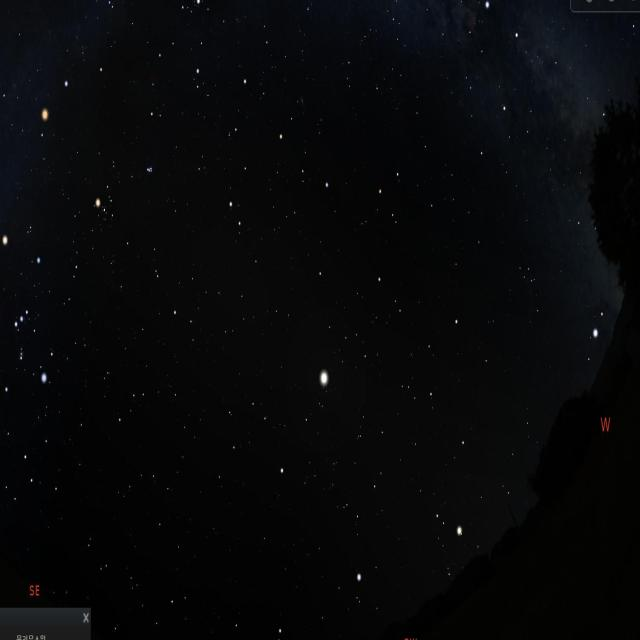cygnus: (481, 0, 609, 135)
orion: (0, 224, 50, 398)
pleiades: (139, 160, 155, 189)
taurus: (83, 134, 160, 256)
